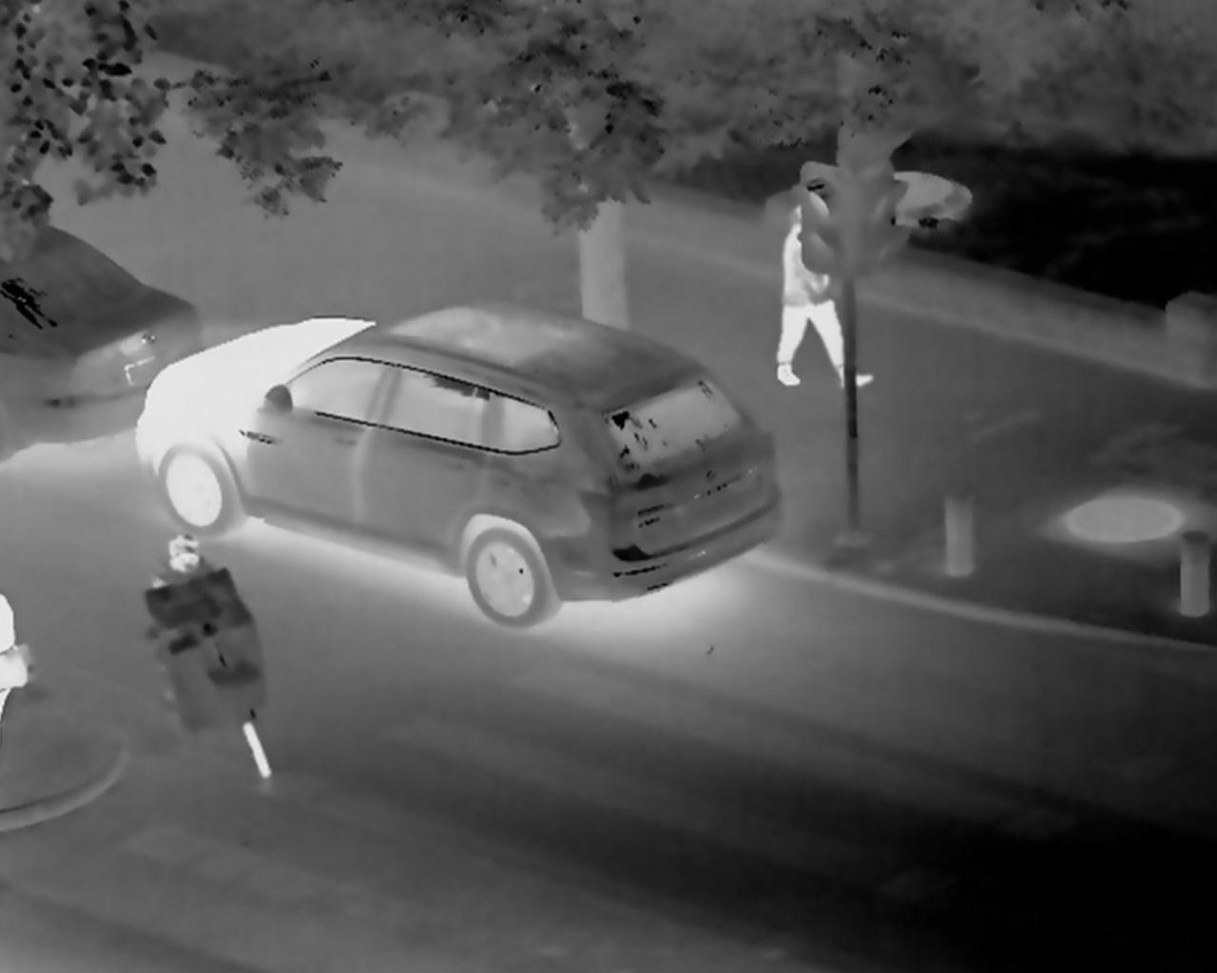person: (757, 193, 865, 395), (144, 509, 215, 577)
